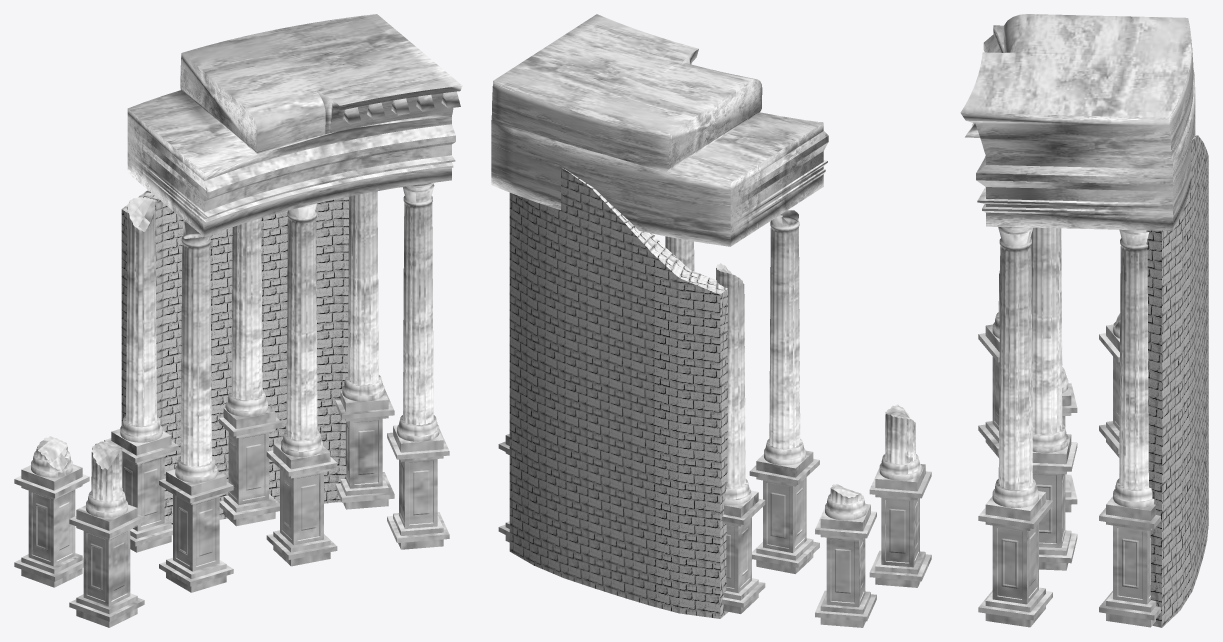
Rendered from ColumnsWall.fbx.
3 renders of one model, left to right at view 1: azimuth 30°, elevation 25°; view 2: azimuth 150°, elevation 25°; view 3: azimuth 270°, elevation 25°, orthographic. The views are drawn at different scales.
Parts seen in each view (by area): view 1: Roof, Column, Podiums, BrickWall; view 2: BrickWall, Roof, Podiums, Column; view 3: Roof, Column, BrickWall, Podiums.
Boxes of the visible parts, left/top/right/bottom form: Roof: left=127, top=14, right=462, bottom=237; Column: left=31, top=182, right=439, bottom=517; Podiums: left=14, top=389, right=449, bottom=627; BrickWall: left=121, top=190, right=348, bottom=524; BrickWall: left=509, top=167, right=727, bottom=618; Roof: left=491, top=14, right=828, bottom=246; Podiums: left=498, top=434, right=931, bottom=627; Column: left=665, top=210, right=921, bottom=520; Roof: left=960, top=14, right=1195, bottom=230; Column: left=992, top=227, right=1154, bottom=507; BrickWall: left=1146, top=135, right=1208, bottom=627; Podiums: left=978, top=324, right=1160, bottom=627.
Bounding box in the file's own units: 8483 × 10333 × 4489.
